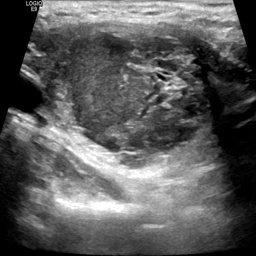mass: (60, 25, 206, 157)
